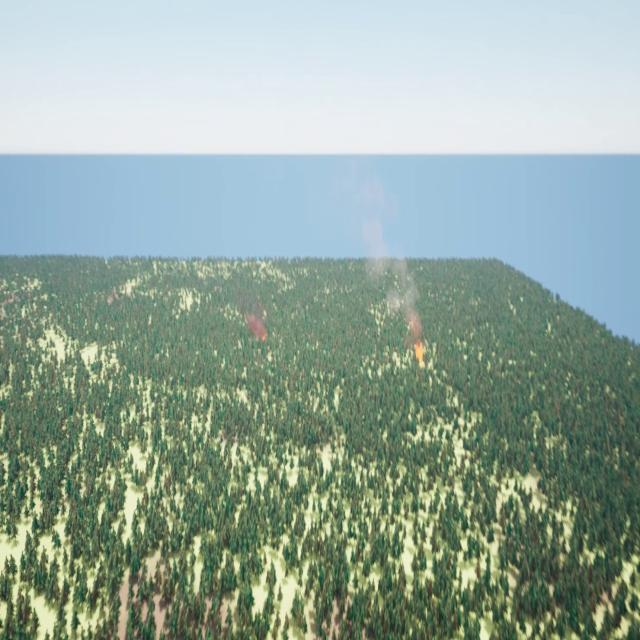fire: (416, 342, 428, 372)
smoke: (337, 156, 425, 344), (244, 310, 270, 345)
